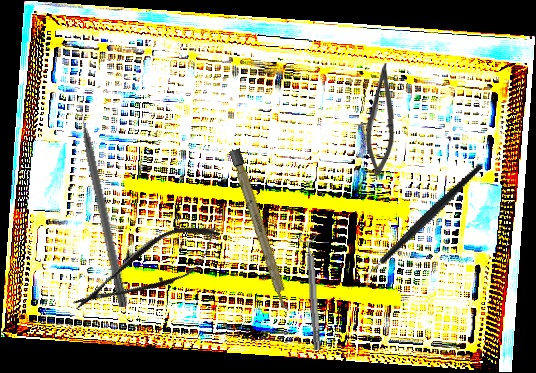Chopper: (337, 163, 509, 290)
Fixation Ring: (298, 232, 327, 351)
Micro Scissor: (63, 210, 231, 329), (365, 62, 396, 176)
Pusher: (73, 94, 131, 308)
Scalpel Handle: (229, 148, 292, 313)
